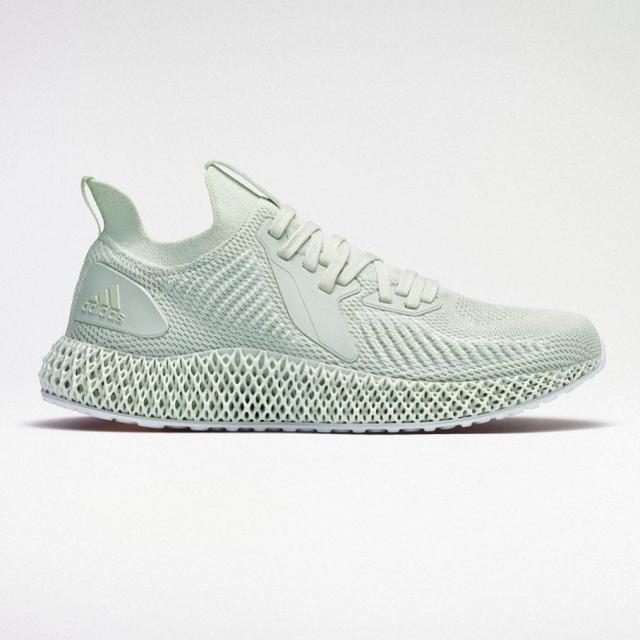shoe: (25, 129, 640, 512)
